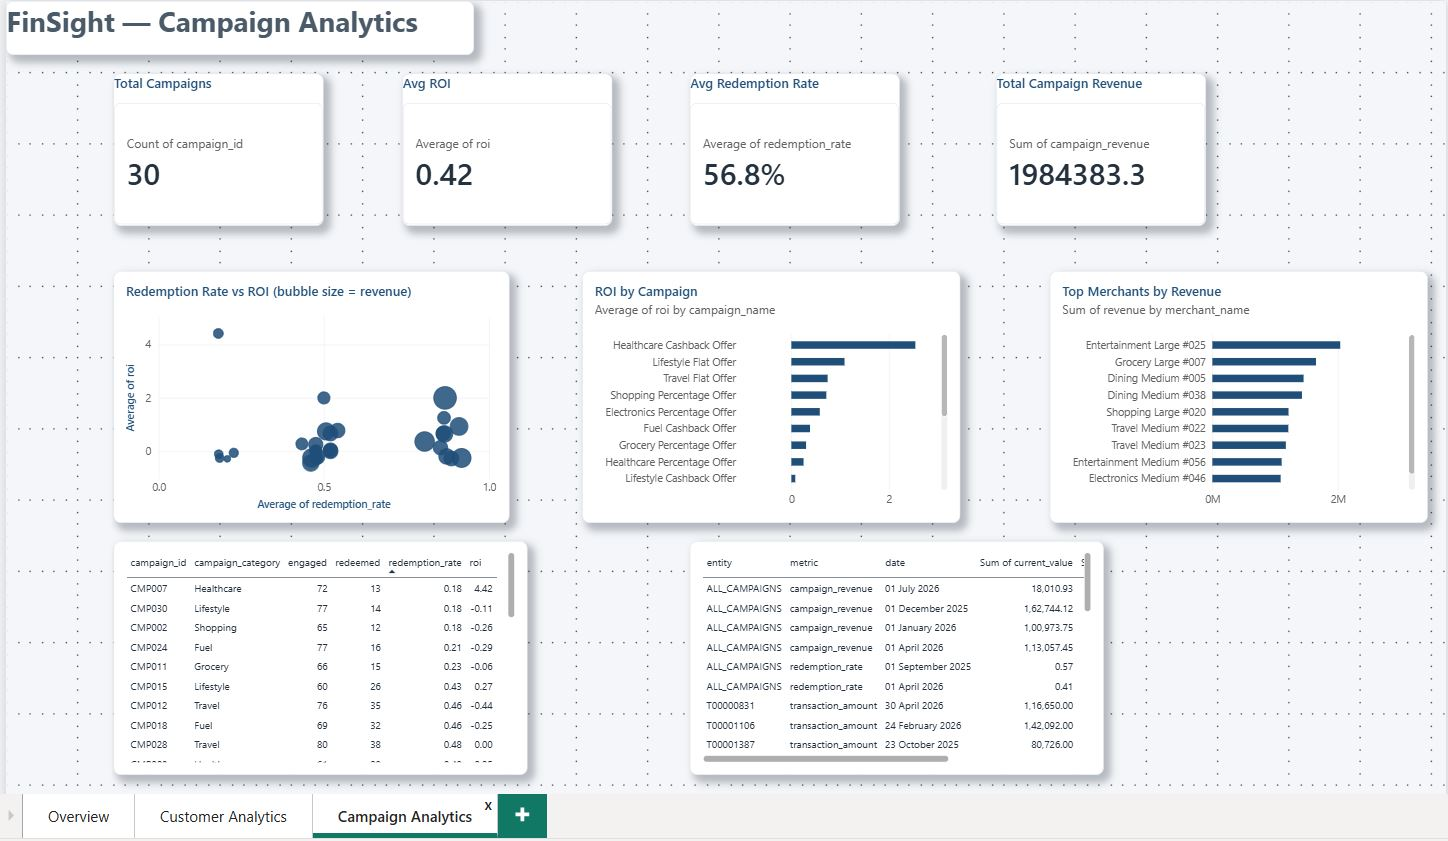

This screenshot's page, from the dashboard's own definition file:
{"tool":"powerbi","page":{"name":"Campaign Analytics","canvas":[1920,1080],"ordinal":2},"visuals":[{"type":"cardVisual","title":"Total Campaigns","fields":{"Data":["CountNonNull(campaign_performance.campaign_id)"]},"box":[144,96,280,203.3],"z":0},{"type":"cardVisual","title":"Avg ROI","fields":{"Data":["Avg(campaign_performance.roi)"]},"box":[528,96,280,203.3],"z":1000},{"type":"cardVisual","title":"Avg Redemption Rate","fields":{"Data":["Avg(campaign_performance.redemption_rate)"]},"box":[912,96,280,203.3],"z":2000},{"type":"cardVisual","title":"Total Campaign Revenue","fields":{"Data":["Sum(campaign_performance.campaign_revenue)"]},"box":[1320,96,280,203.3],"z":3000},{"type":"scatterChart","title":"Redemption Rate vs ROI (bubble size = revenue)","fields":{"Category":["campaign_performance.campaign_id"],"Size":["Sum(campaign_performance.campaign_revenue)"],"X":["campaign_performance.redemption_rate"],"Y":["campaign_performance.roi"]},"box":[144,360,528,336],"z":4000},{"type":"clusteredBarChart","title":"ROI by Campaign","fields":{"Category":["campaign_performance.campaign_name"],"Y":["Avg(campaign_performance.roi)"]},"box":[768,360,504,336],"z":5000},{"type":"tableEx","fields":{"Values":["campaign_performance.campaign_id","campaign_performance.campaign_category","campaign_performance.engaged","campaign_performance.redeemed","campaign_performance.redemption_rate","campaign_performance.roi"]},"box":[144,720,552,312],"z":6000},{"type":"tableEx","fields":{"Values":["anomalies.entity","anomalies.metric","anomalies.date","Sum(anomalies.current_value)","Sum(anomalies.baseline)","Sum(anomalies.pct_change)","anomalies.severity"]},"box":[912,720,552,312],"z":7000},{"type":"clusteredBarChart","title":"Top Merchants by Revenue","fields":{"Category":["merchant_performance.merchant_name"],"Y":["Sum(merchant_performance.revenue)"]},"box":[1392,360,504,336],"z":8000},{"type":"textbox","box":[0,0,624,72],"z":8001}]}

Visuals, with their boxes on the page's 1920x1080 design canvas (x1, y1, x2, y2). These are canvas units, not pixel positions in the 1448x841 screenshot, which may show the page scaled, cropped or inside an application window:
"Total Campaigns" cardVisual: (144,96,424,299)
"Avg ROI" cardVisual: (528,96,808,299)
"Avg Redemption Rate" cardVisual: (912,96,1192,299)
"Total Campaign Revenue" cardVisual: (1320,96,1600,299)
"Redemption Rate vs ROI (bubble size = revenue)" scatterChart: (144,360,672,696)
"ROI by Campaign" clusteredBarChart: (768,360,1272,696)
tableEx - campaign_performance.campaign_id x campaign_performance.campaign_category: (144,720,696,1032)
tableEx - anomalies.entity x anomalies.metric: (912,720,1464,1032)
"Top Merchants by Revenue" clusteredBarChart: (1392,360,1896,696)
textbox: (0,0,624,72)
